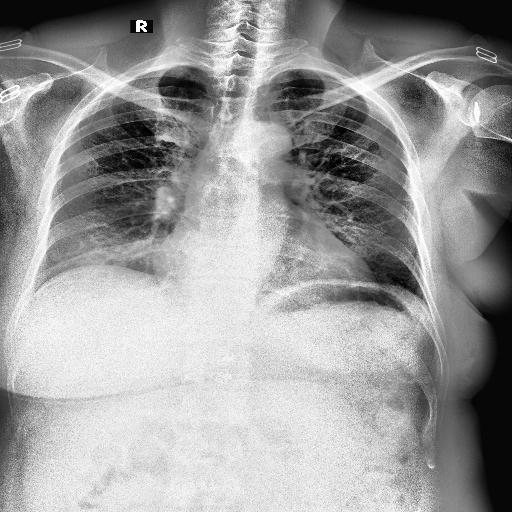0- Aortic enlargement: (232, 120, 296, 184), (238, 119, 294, 176), (243, 121, 293, 159)
3- Cardiomegaly: (152, 234, 382, 296), (153, 234, 380, 290), (154, 246, 376, 294)
